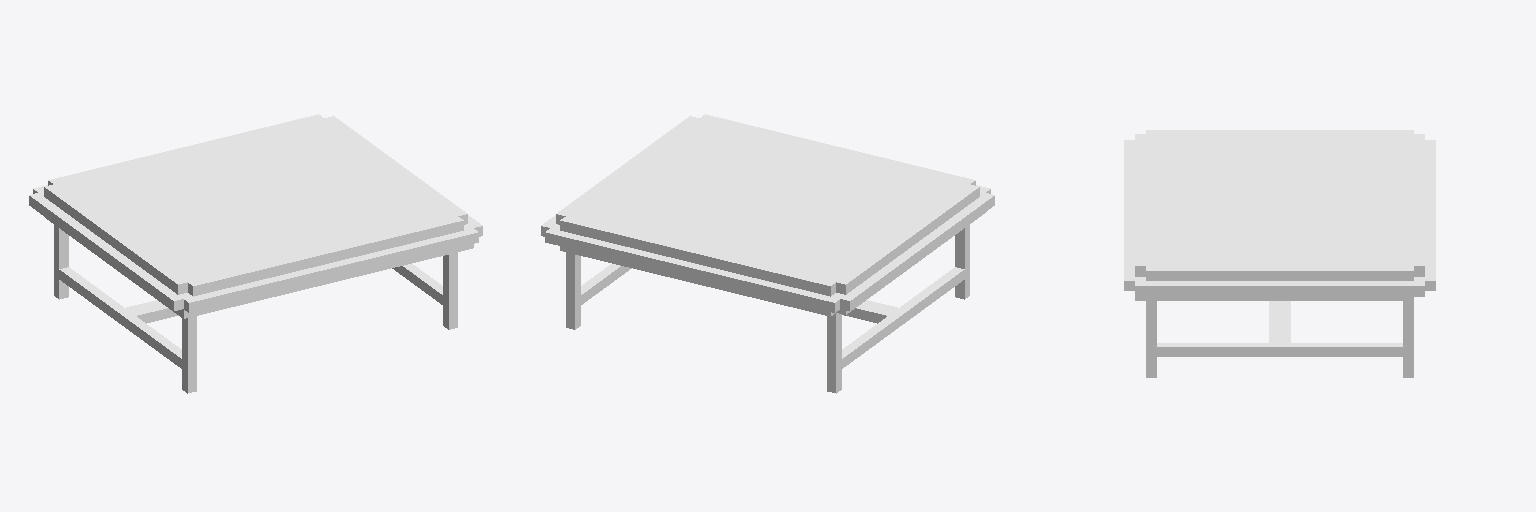
The model's file is Interior_Furniture_Table_Big_2x2.obj.
3 views of the same model, side by side, from view 1: azimuth 30°, elevation 25°; view 2: azimuth 150°, elevation 25°; view 3: azimuth 270°, elevation 25° (orthographic).
Parts seen in each view (by area): view 1: object 1; view 2: object 1; view 3: object 1.
Boxes of the visible parts, x1,y1,x2,y2 form: object 1: [29, 114, 482, 393]; object 1: [541, 114, 994, 393]; object 1: [1124, 130, 1435, 377].
Bounding box in the file's own units: 3.2 × 1.1 × 2.8.